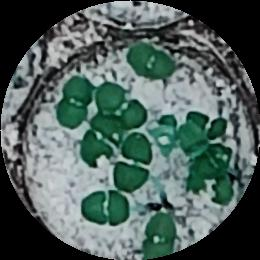Basil: (113, 131, 154, 193), (78, 113, 120, 168), (181, 128, 224, 180), (77, 189, 134, 227), (99, 82, 145, 129), (141, 211, 180, 257), (128, 42, 175, 80), (60, 75, 88, 128), (193, 109, 227, 141)
